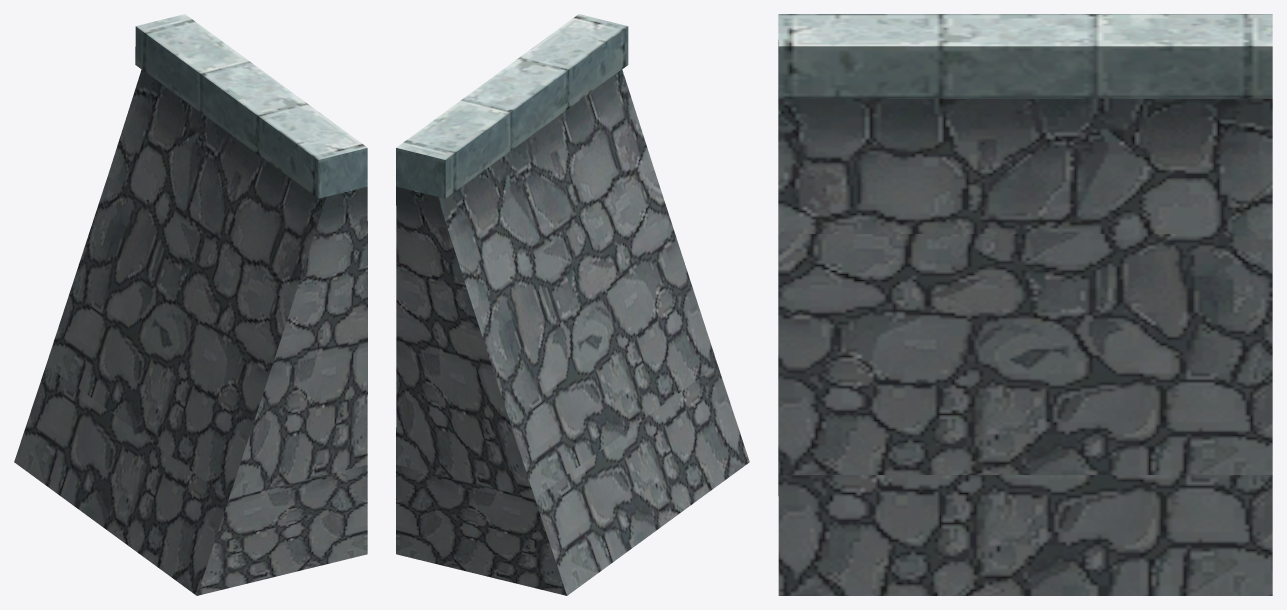
3 views of the same model, side by side, from view 1: azimuth 30°, elevation 25°; view 2: azimuth 150°, elevation 25°; view 3: azimuth 270°, elevation 25° (orthographic). The views are drawn at different scales.
Visible parts, largest first — view 1: geom_node_0; view 2: geom_node_0; view 3: geom_node_0.
Part boxes in pixels (x1,y1,x2,y2): geom_node_0: (14,14,367,595); geom_node_0: (396,14,749,595); geom_node_0: (778,14,1272,595).
Size of the model in its own units: 1.97 by 4.48 by 3.65.
Materials: 1 (1 with a texture image).
